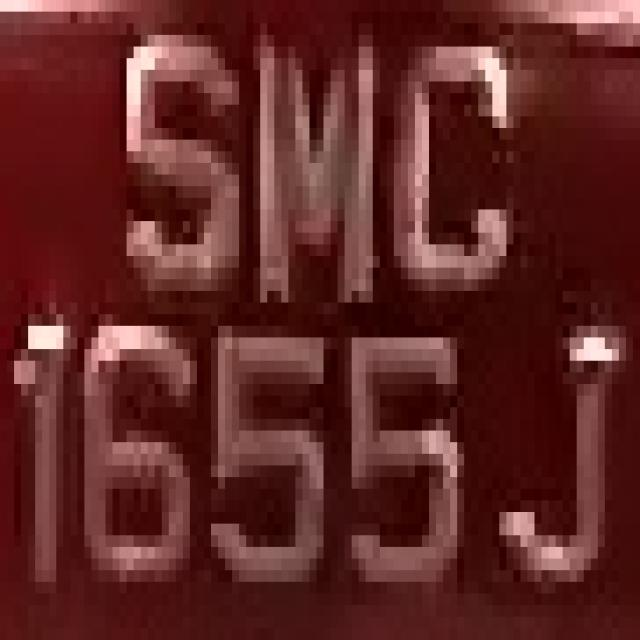1: (21, 268, 92, 605)
5: (338, 268, 471, 616), (197, 326, 323, 605)
6: (77, 291, 190, 593)
C: (408, 12, 527, 326)
J: (485, 314, 640, 570)
M: (246, 0, 387, 314)
S: (106, 11, 260, 302)
